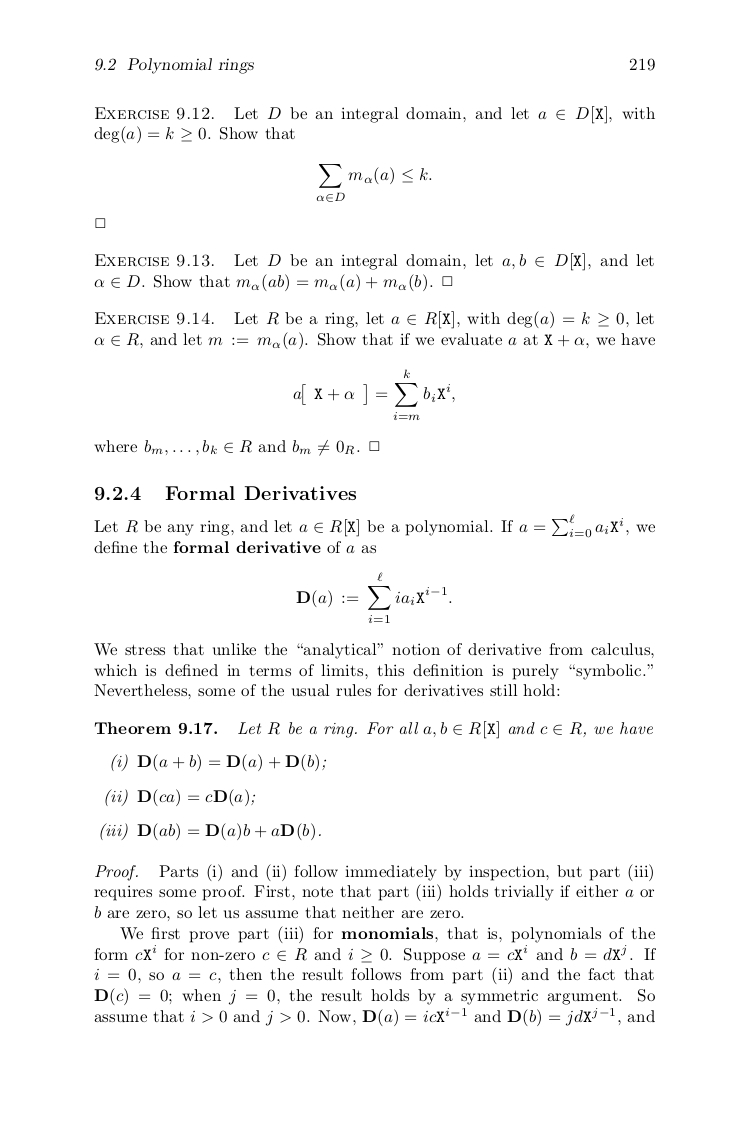formula: (293, 369, 454, 419), (296, 572, 451, 622), (316, 164, 431, 201), (100, 822, 320, 841), (111, 753, 326, 772), (105, 788, 254, 807)
